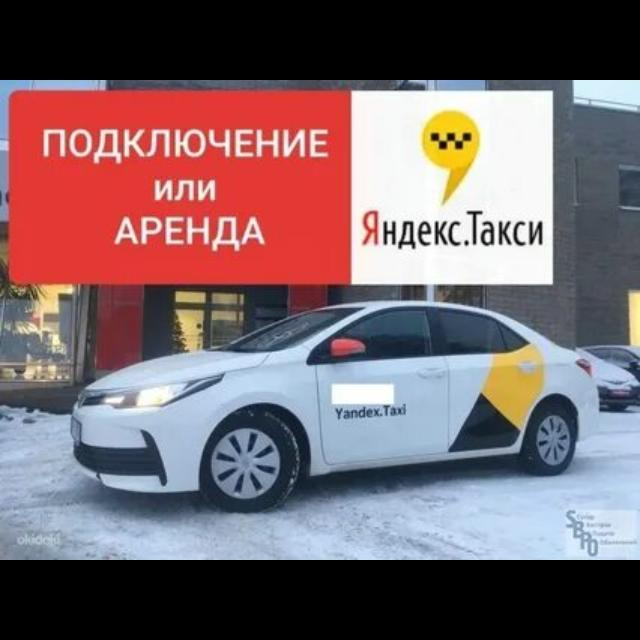taxi: (70, 299, 600, 513)
